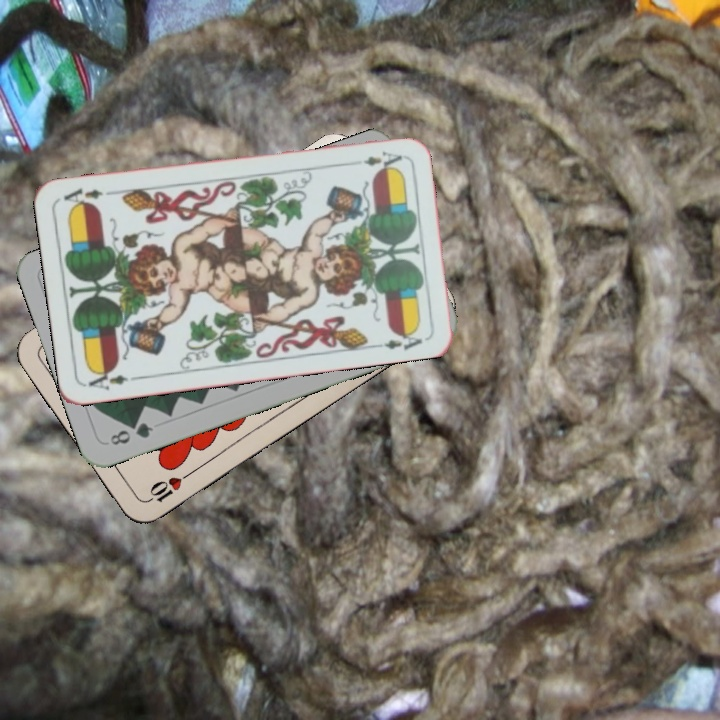EA: (84, 365, 142, 393), (346, 147, 405, 169)
G8: (105, 418, 156, 448)
H10: (141, 468, 194, 506)
